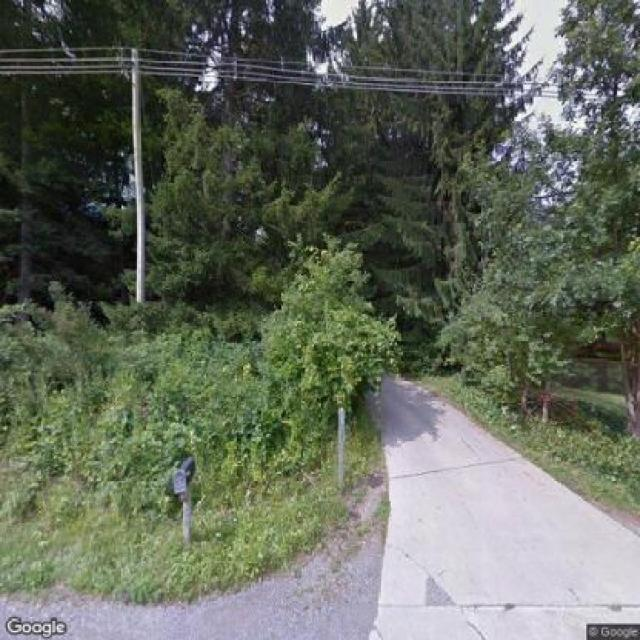pole: (105, 43, 160, 303)
